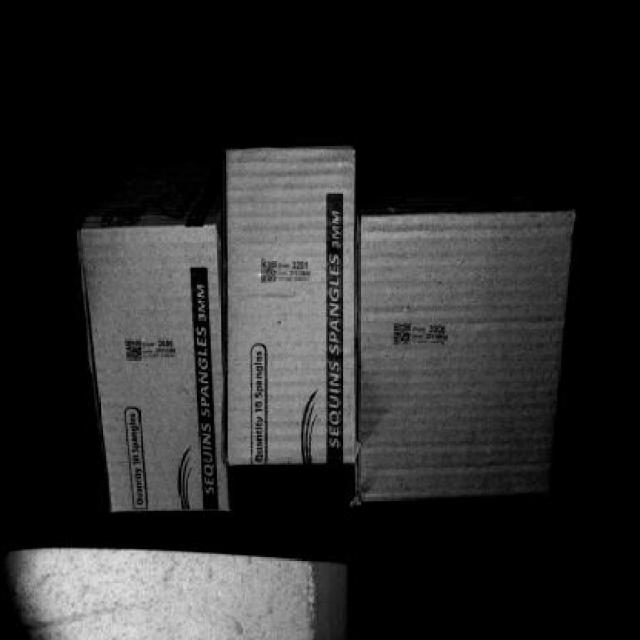cardboxes: (362, 216, 564, 502), (82, 226, 227, 514), (235, 151, 360, 475)
